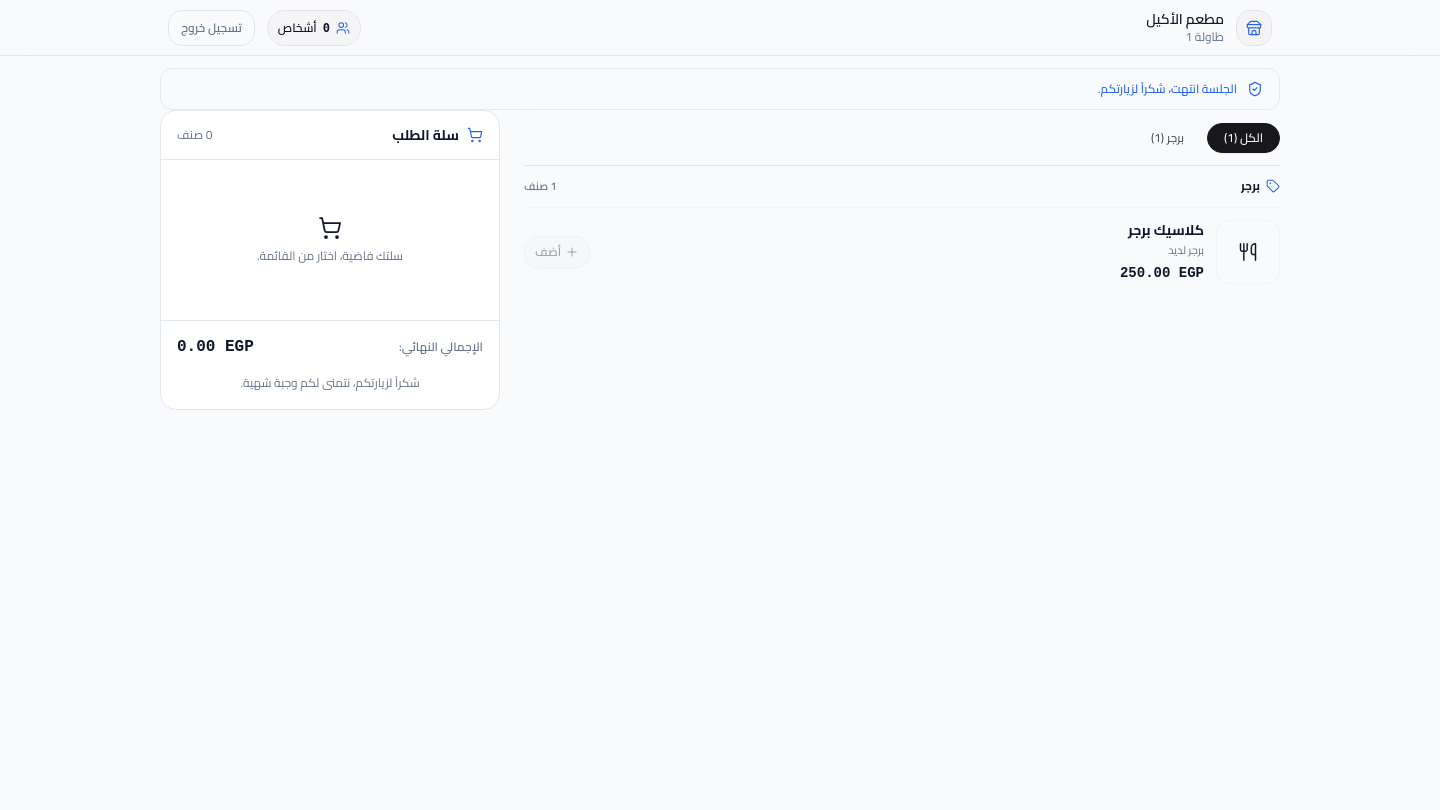
Test: PublicTableMenuPage Unit Tests (Mobile Dine-in UX) › keeps a closed session open for viewing the bill and signs out on demand
Expected: the text "الجلسة انتهت، شكراً لزيارتكم." is shown, [1098, 81, 1237, 97]
Click the button "تسجيل خروج". click: {"x": 211, "y": 28}
box: [168, 10, 255, 46]
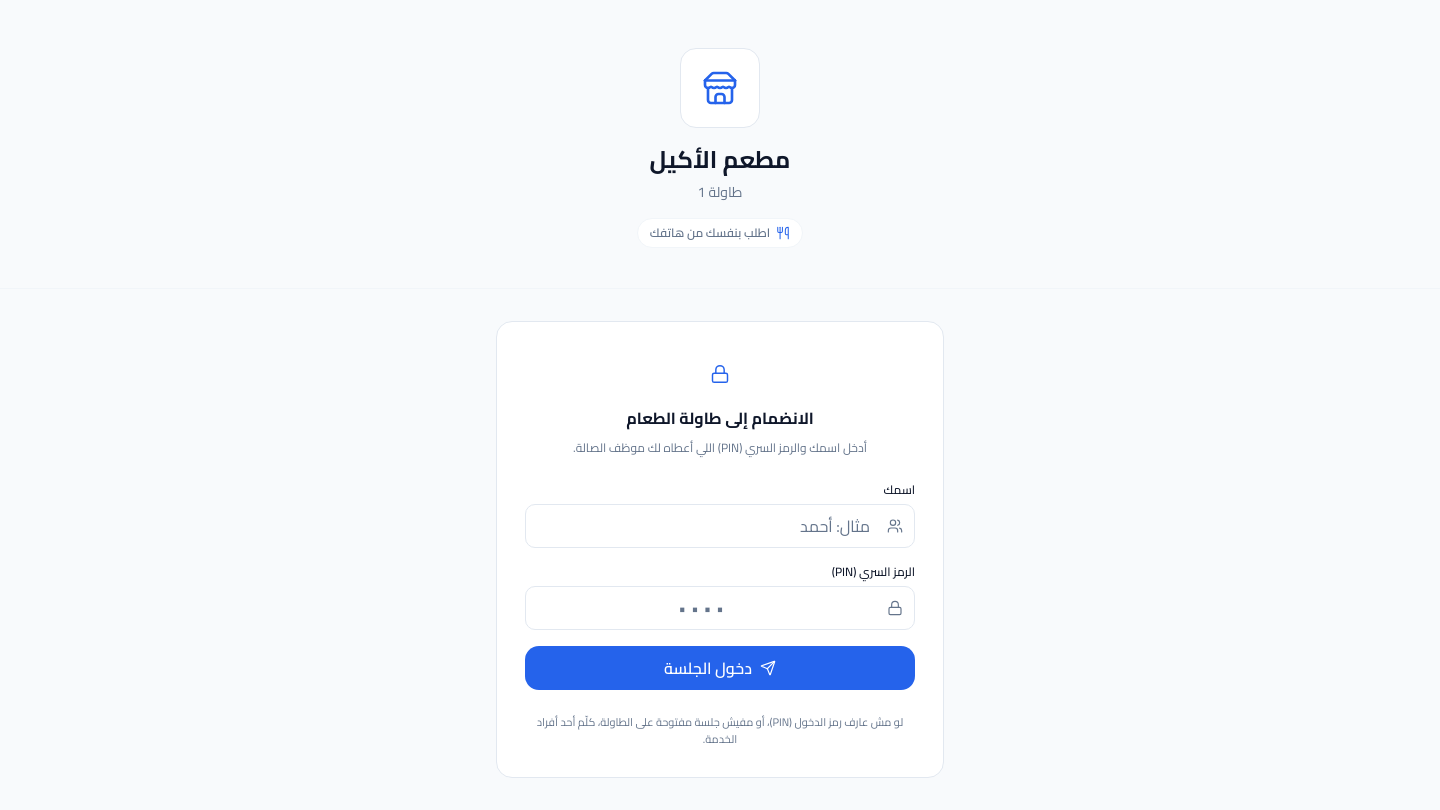
Expected: the button "دخول الجلسة" is shown, [525, 646, 915, 690]
